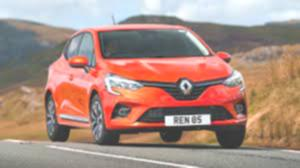Renault: (178, 77, 194, 99)
